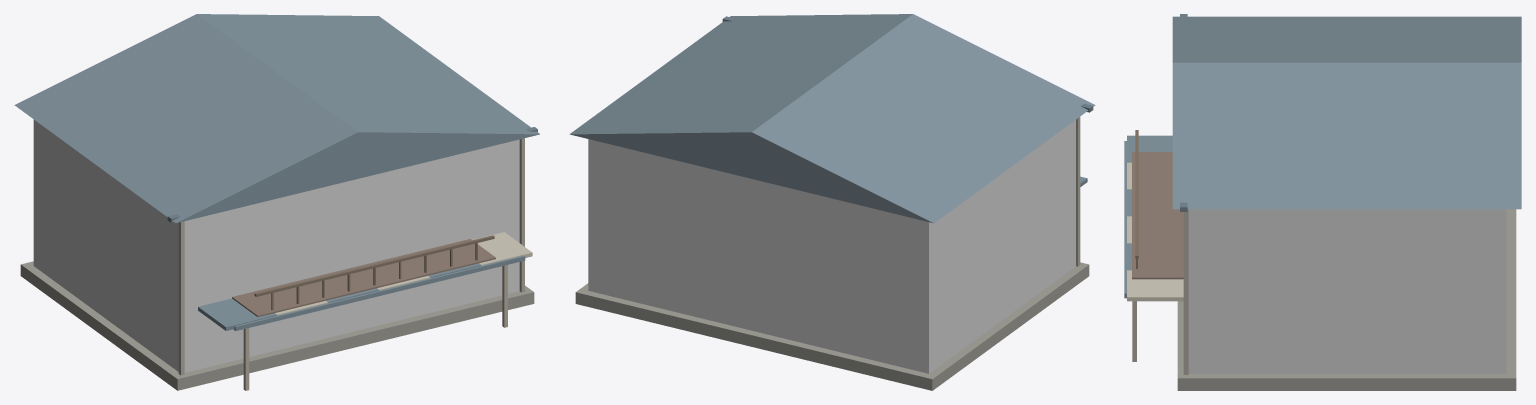
3 views of the same model, side by side, from view 1: azimuth 30°, elevation 25°; view 2: azimuth 150°, elevation 25°; view 3: azimuth 270°, elevation 25° (orthographic). The views are drawn at different scales.
Parts seen in each view (by area): view 1: Visual; view 2: Visual; view 3: Visual.
Part boxes in pixels (x1=…): Visual: x1=14, y1=14, x2=539, y2=390; Visual: x1=569, y1=14, x2=1095, y2=390; Visual: x1=1124, y1=14, x2=1521, y2=390.
Bounding box in the file's own units: 36.2 × 20.45 × 31.4.
